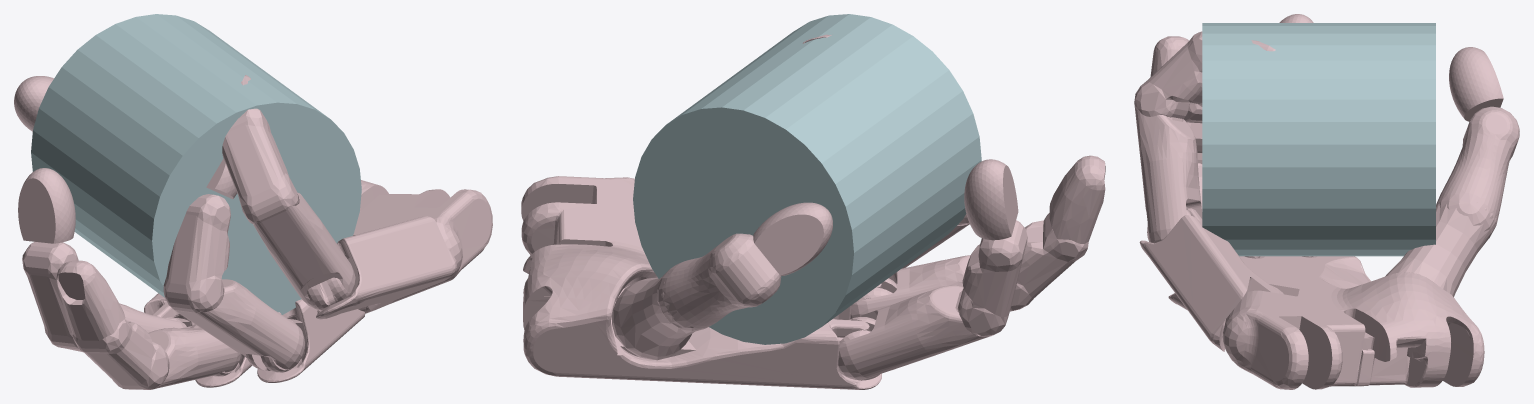
The model's file is grasp_8.glb.
3 views of the same model, side by side, from view 1: azimuth 30°, elevation 25°; view 2: azimuth 150°, elevation 25°; view 3: azimuth 270°, elevation 25° (orthographic). The views are drawn at different scales.
Visible parts, largest first — view 1: world; view 2: world; view 3: world.
Part boxes in pixels (bbox=[...]): world: bbox=[14, 14, 492, 389]; world: bbox=[521, 14, 1105, 389]; world: bbox=[1134, 14, 1519, 389].
Size of the model in its own units: 0.1882 by 0.1091 by 0.132.
